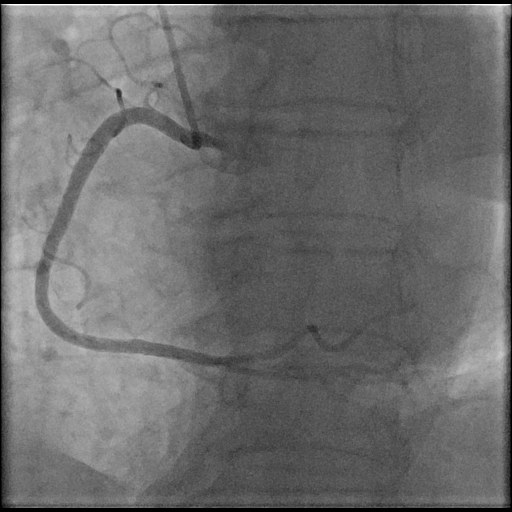RCA: (37, 108, 321, 366)
catherter: (158, 6, 197, 134)
